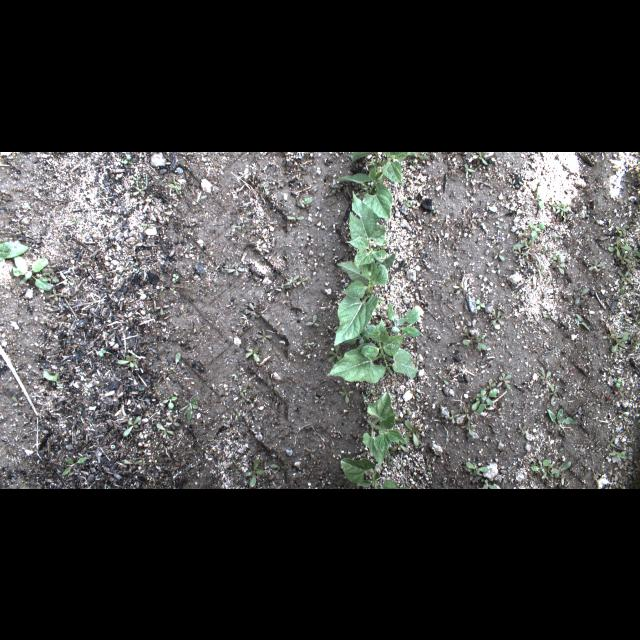crop: (333, 252, 397, 344), (330, 320, 420, 384), (362, 392, 403, 466), (336, 166, 392, 218), (348, 192, 387, 264), (339, 458, 408, 488), (349, 151, 413, 183)
weed: (13, 254, 53, 290), (388, 304, 424, 336), (474, 386, 496, 414), (546, 408, 576, 428), (243, 459, 264, 487), (462, 329, 488, 351), (343, 324, 371, 344), (548, 463, 572, 485), (62, 456, 88, 476), (180, 394, 200, 420), (0, 242, 28, 260), (404, 418, 421, 446), (608, 237, 632, 256), (464, 460, 490, 476), (123, 416, 141, 438), (611, 332, 629, 352), (528, 458, 550, 474), (44, 370, 62, 388), (472, 151, 494, 165), (540, 367, 554, 389), (574, 287, 590, 305), (575, 311, 591, 329), (528, 221, 544, 239), (117, 353, 137, 367), (498, 369, 512, 389), (551, 254, 565, 274), (162, 394, 178, 410), (244, 301, 258, 319), (168, 176, 182, 194), (364, 385, 378, 403), (390, 441, 410, 453), (472, 388, 484, 408), (534, 186, 544, 210), (157, 423, 173, 437), (245, 346, 259, 362), (228, 260, 244, 274), (284, 273, 300, 287), (544, 390, 558, 406), (256, 330, 274, 342), (586, 259, 604, 271), (608, 449, 628, 459), (404, 198, 420, 210), (294, 274, 310, 286), (329, 346, 341, 362), (617, 270, 633, 282), (340, 385, 350, 403), (172, 353, 182, 371), (618, 318, 640, 326), (240, 388, 252, 402), (222, 351, 234, 365), (629, 472, 639, 488), (465, 420, 475, 436), (493, 310, 503, 326), (297, 198, 313, 208), (155, 305, 171, 315), (165, 416, 181, 426), (96, 345, 108, 357), (307, 314, 319, 326), (516, 422, 528, 434), (512, 240, 530, 248), (518, 228, 530, 240), (615, 223, 627, 235), (230, 366, 240, 380), (464, 162, 474, 176), (439, 374, 449, 388), (558, 202, 568, 216), (450, 409, 458, 425), (43, 300, 59, 308), (228, 222, 244, 230), (542, 312, 558, 320), (548, 198, 556, 214), (51, 288, 61, 300), (171, 272, 181, 284), (123, 154, 133, 166), (314, 394, 326, 404), (453, 280, 463, 292), (494, 249, 506, 259), (515, 247, 527, 257), (620, 252, 630, 264), (482, 478, 493, 488), (271, 464, 289, 470), (607, 436, 615, 449), (432, 202, 440, 215), (464, 406, 472, 419), (12, 396, 22, 406), (332, 183, 342, 193), (131, 174, 141, 184), (240, 217, 250, 227), (486, 377, 496, 387), (602, 332, 612, 342), (538, 264, 546, 276), (122, 263, 134, 271), (596, 180, 608, 188), (618, 282, 626, 294), (602, 367, 614, 375), (135, 187, 145, 196), (140, 222, 154, 228), (476, 300, 484, 310), (408, 158, 416, 168), (64, 278, 74, 286), (626, 264, 636, 272), (629, 333, 637, 343), (428, 467, 434, 479), (124, 460, 142, 464), (73, 215, 81, 223), (548, 233, 556, 241), (585, 208, 591, 218), (633, 247, 639, 257), (632, 258, 638, 268), (616, 377, 622, 387), (610, 329, 618, 336), (303, 342, 311, 348), (498, 381, 502, 393), (510, 178, 514, 188), (286, 216, 304, 218), (554, 252, 556, 258), (630, 224, 632, 230)
